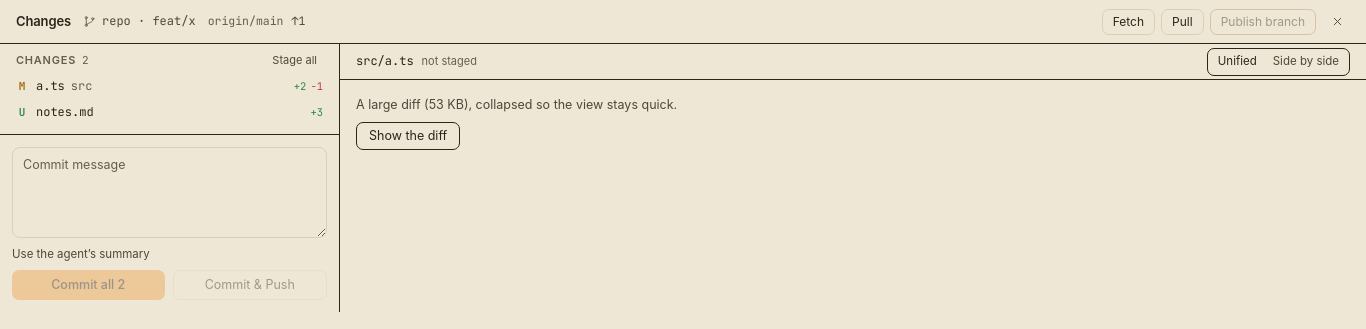
Test: ChangesView › collapses a huge diff until asked
The width and height of the screenshot is (1366, 329).
Click the button "Show the diff" at (408,136), box [356, 122, 460, 150]
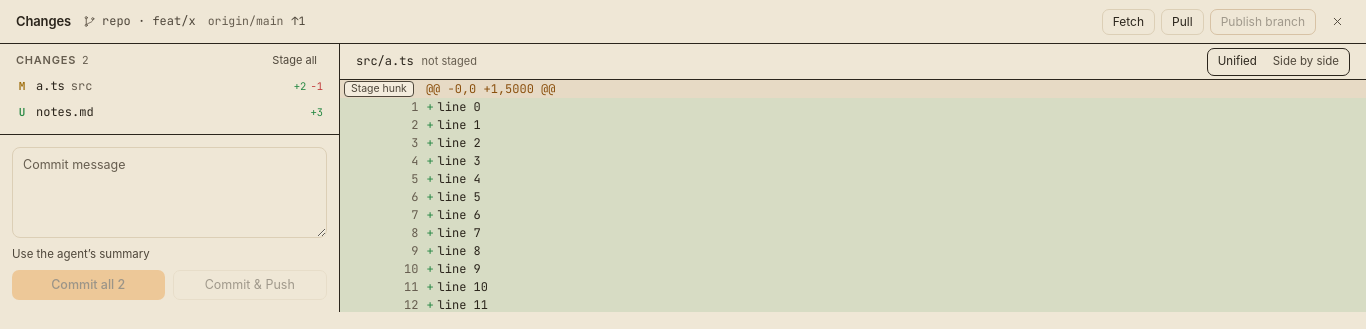
Now the text "line 0" is shown, box [438, 99, 481, 115]
